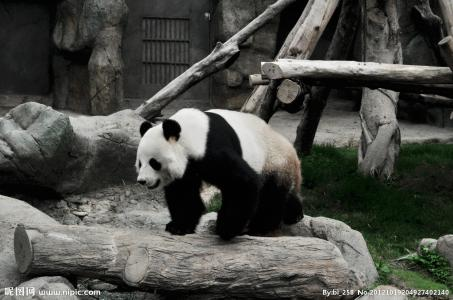panda: (131, 102, 305, 245)
